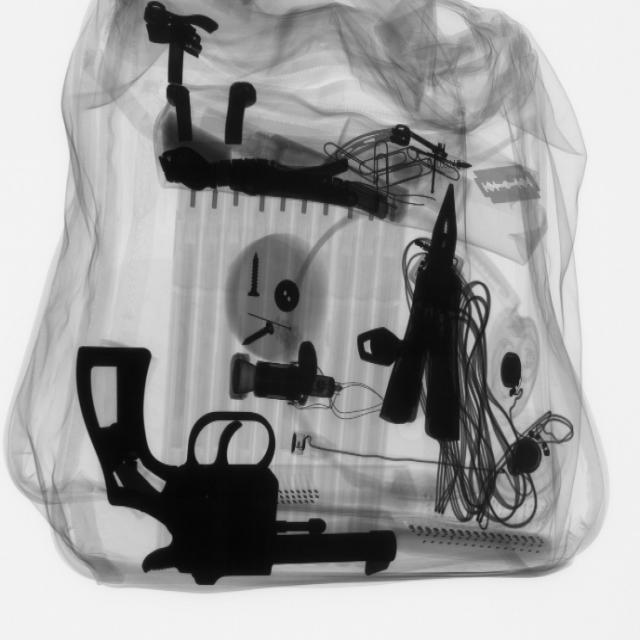BLADE: (471, 161, 548, 211)
GUN: (67, 340, 402, 585)
SCREW: (233, 316, 283, 356), (239, 250, 269, 306)
